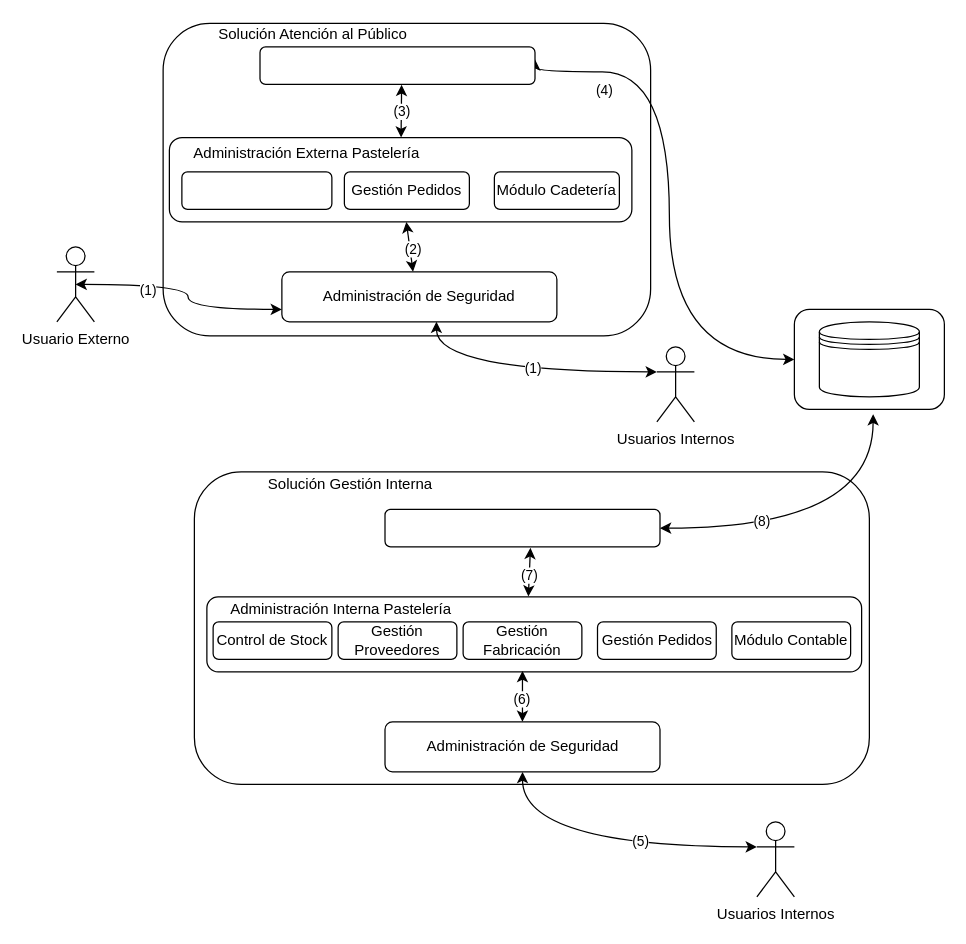
The diagram is 966 pixels wide and 944 high, and some of its shapes have lost their labels. Each missing label, with the centre of its shape:
Gestión de Clientes: pixel 256 190
Mantenimiento del Sistema: pixel 397 65
Mantenimiento del Sistema (Validaciones): pixel 522 527
SQLServer: pixel 868 359
